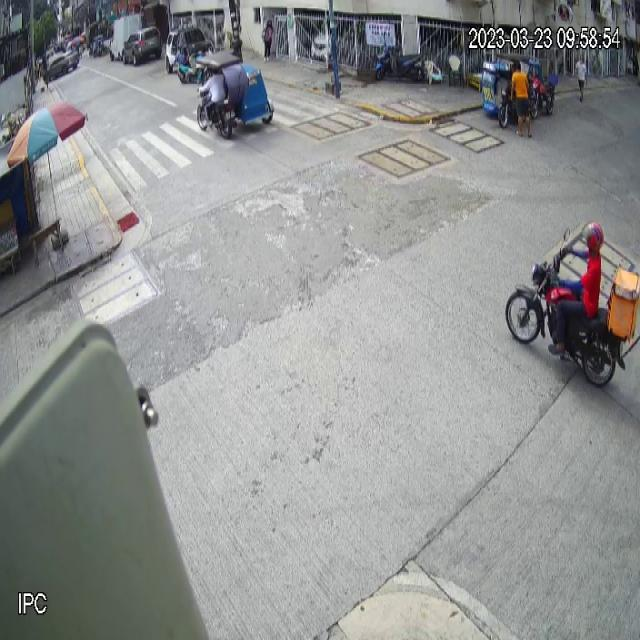Motorcycle: (506, 225, 640, 388)
Tricycle: (197, 49, 276, 140), (481, 54, 530, 129)
